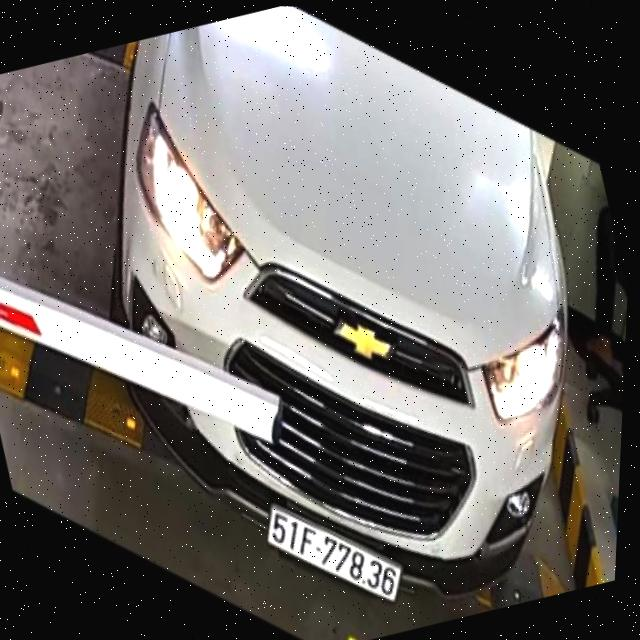car: (23, 1, 640, 640)
plate: (246, 464, 417, 637)
